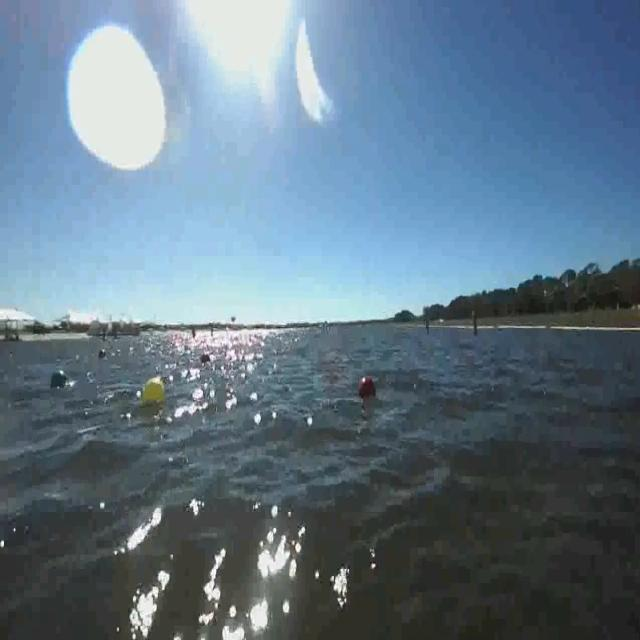red-buoy: (359, 377, 375, 400)
yellow-buoy: (141, 372, 168, 401)
